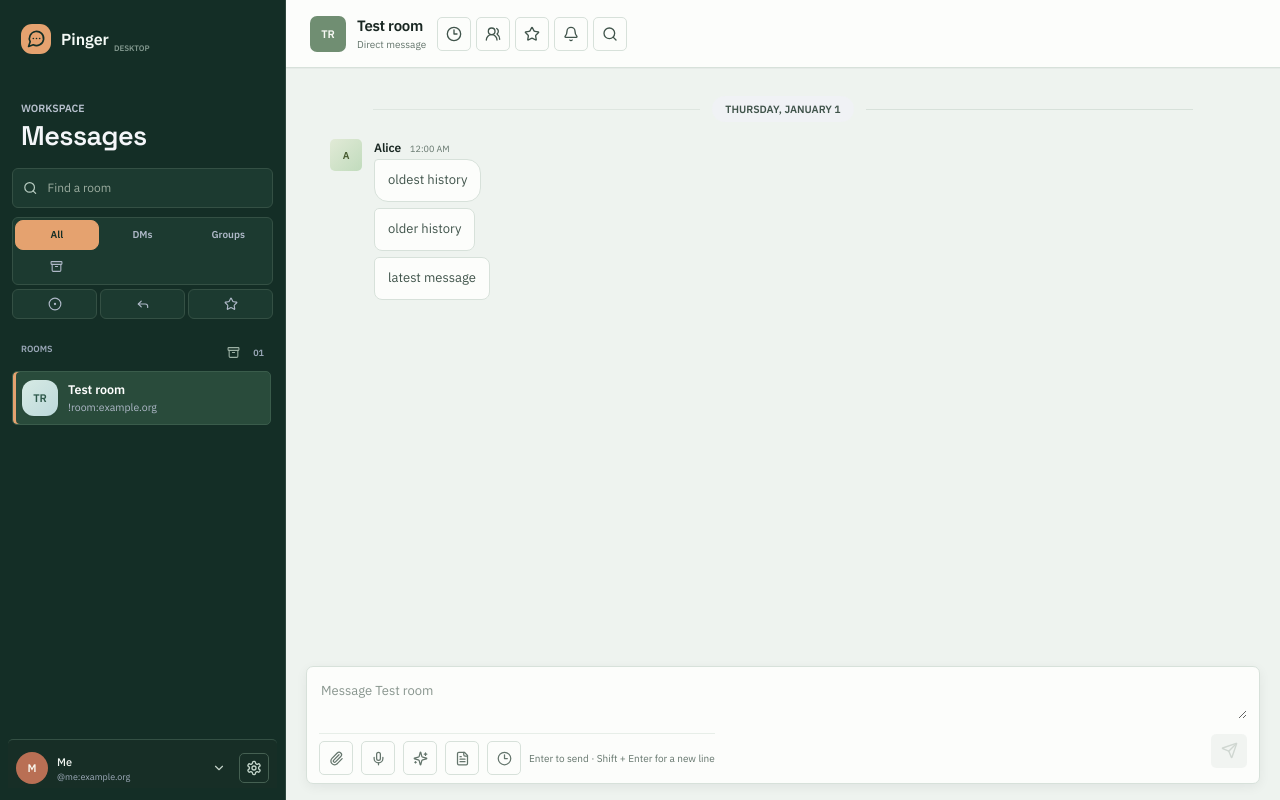
Test: room history updates › summarizes recent messages in a read-only panel
Expected: the text "latest message" is shown, x1=388 y1=268 x2=476 y2=288
Click the button named "Summarize recent messages" at (462, 758), box x1=445 y1=741 x2=479 y2=775
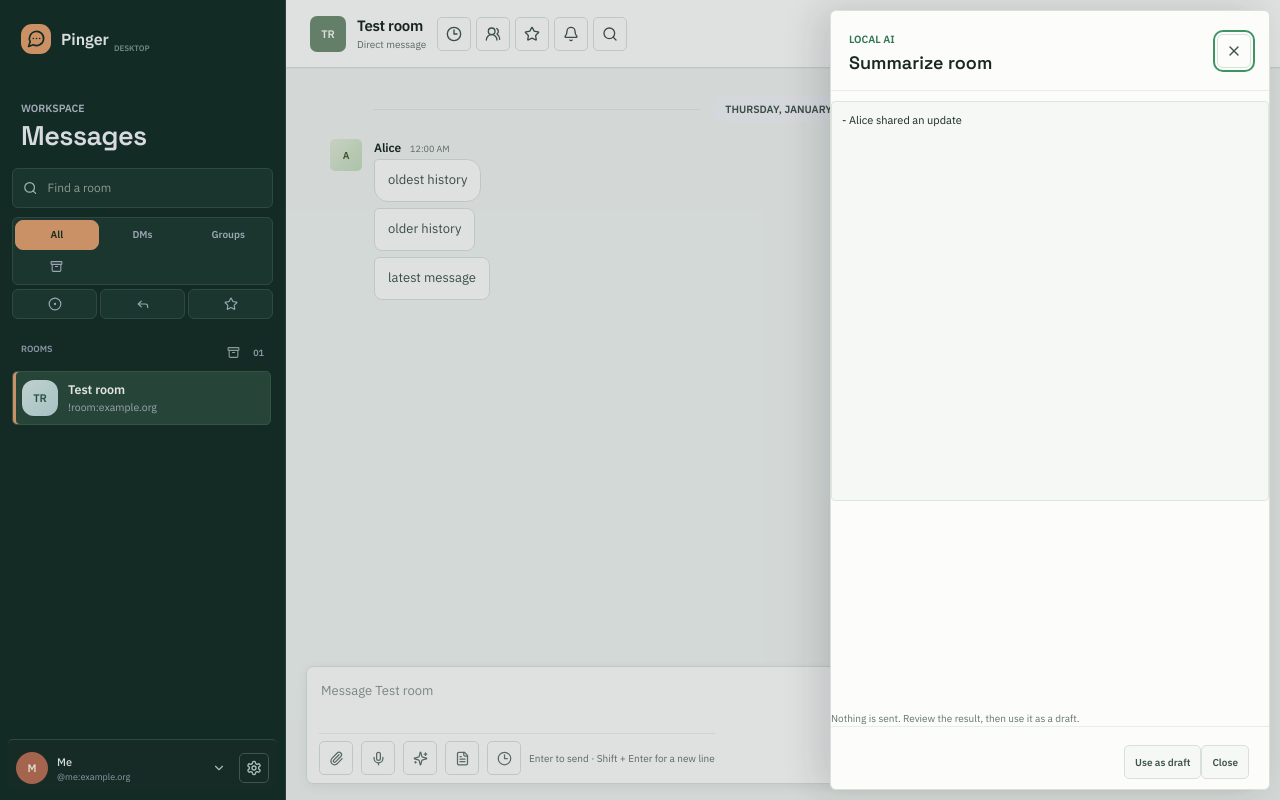
Expected: the text box labelled "Message" is empty, x1=319 y1=677 x2=1247 y2=719
Now the text "- Alice shared an update" is shown, box x1=831 y1=101 x2=1269 y2=501
Click the button "Close" at (1225, 762), box x1=1201 y1=745 x2=1249 y2=779
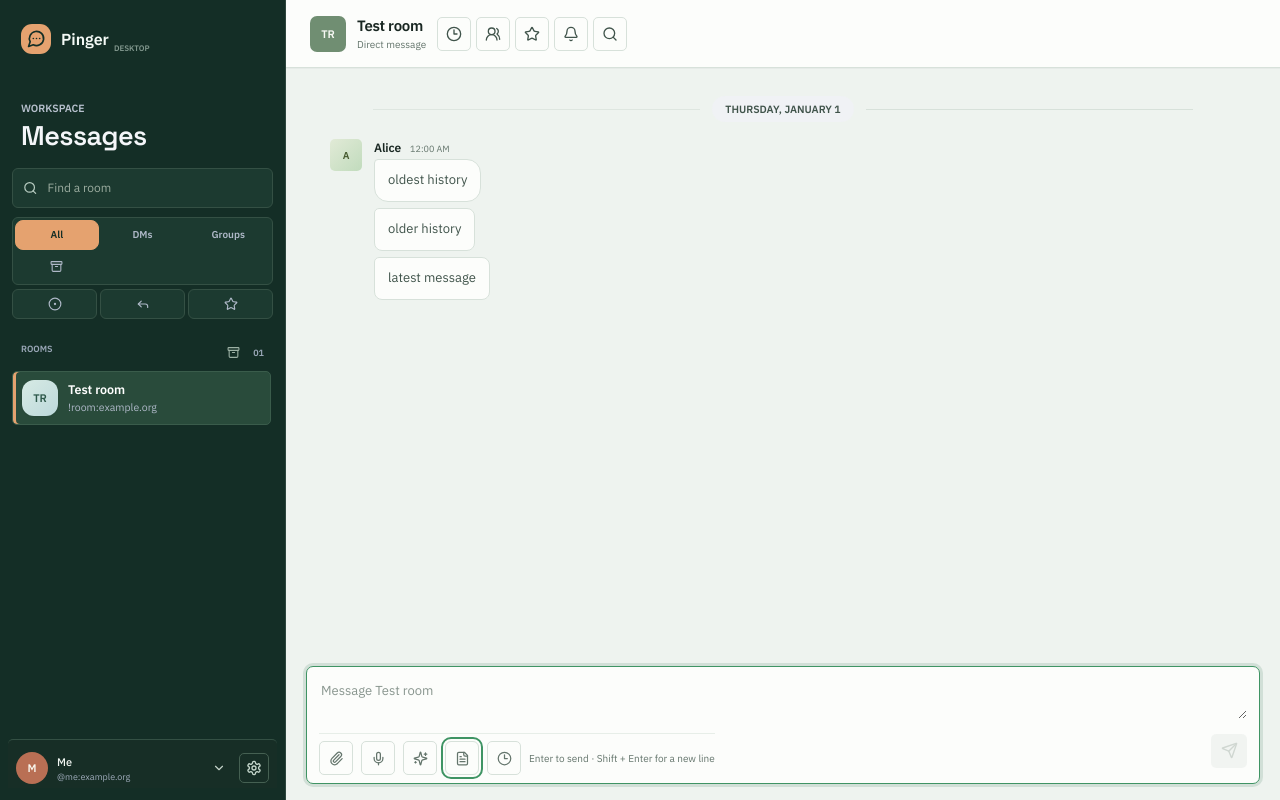
Now the heading "Summarize room" is gone
